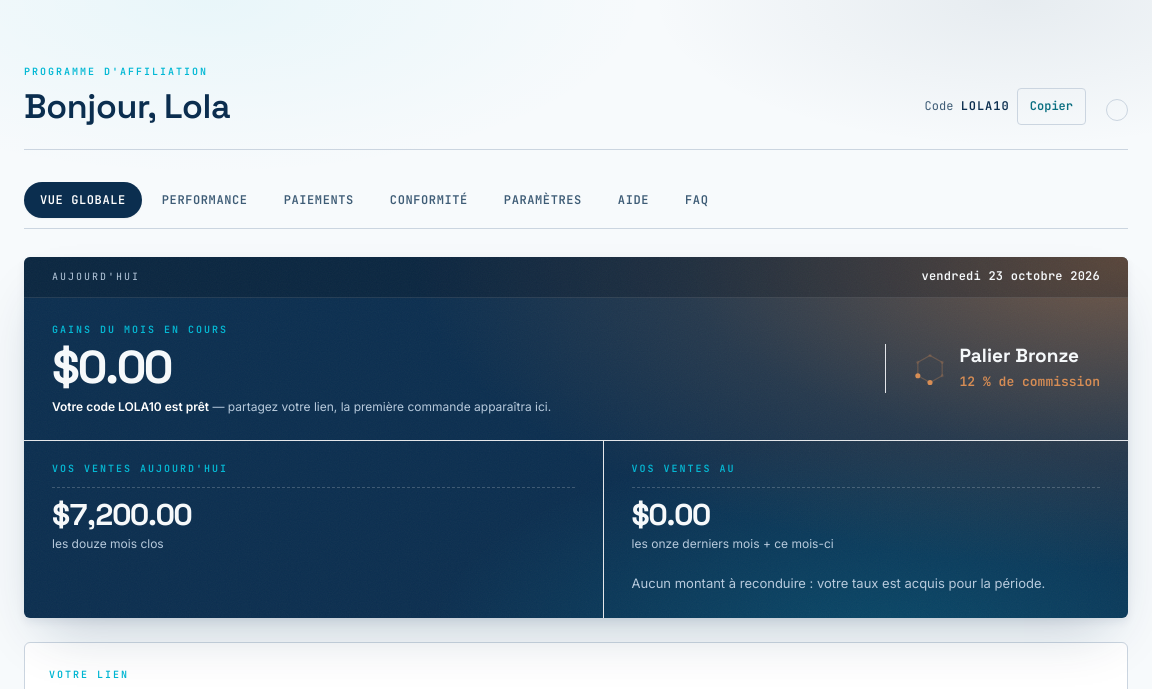
ce que les cartes nomment › LE MÊME CHAMP PORTE LE MÊME NOM DANS LES DEUX ONGLETS
This screenshot has width=1152, height=689.
Click the button "Paiements": (319, 200) left=268, top=182, right=370, bottom=218
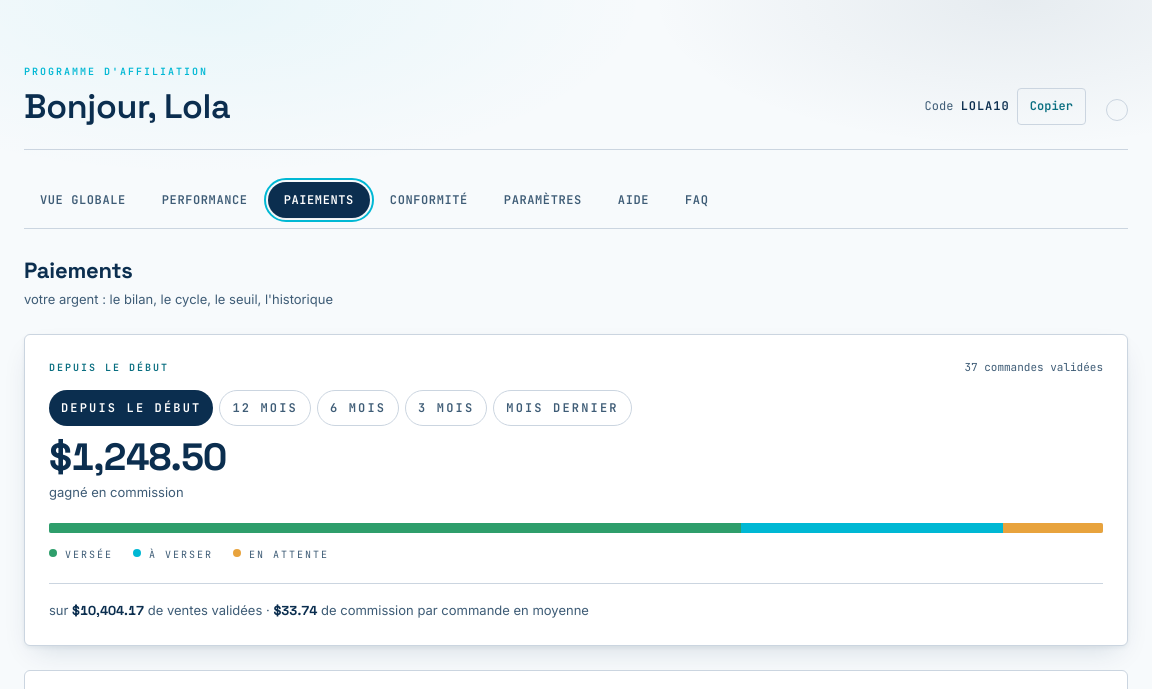
Check: the element with test id "depuis-ventes" does not show "revenu", box left=49, top=602, right=589, bottom=619
Check: the element with test id "depuis-ventes" shows "ventes validées", box left=144, top=602, right=262, bottom=618
Check: the element with test id "depuis-ventes" shows "10,404.17", box left=72, top=602, right=144, bottom=619
